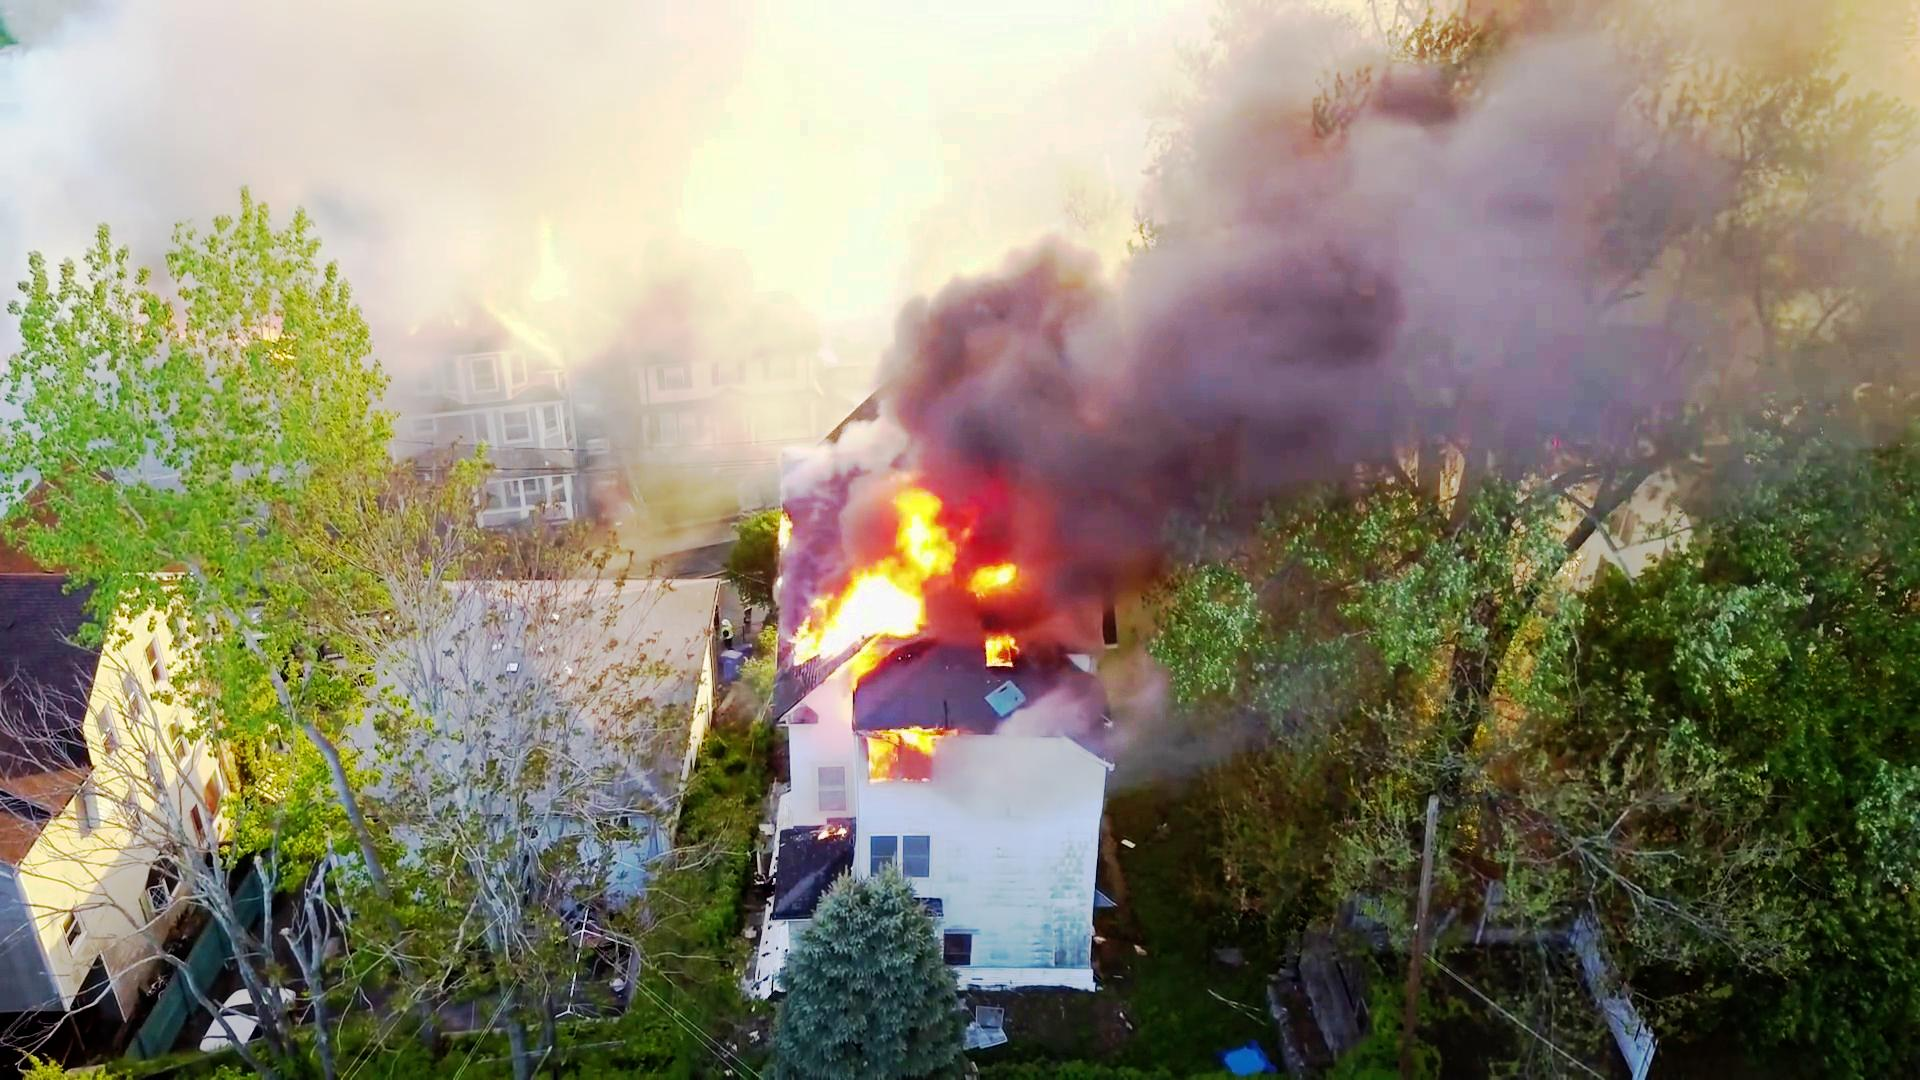fire: (771, 498, 965, 662)
smoke: (906, 218, 1315, 484)
